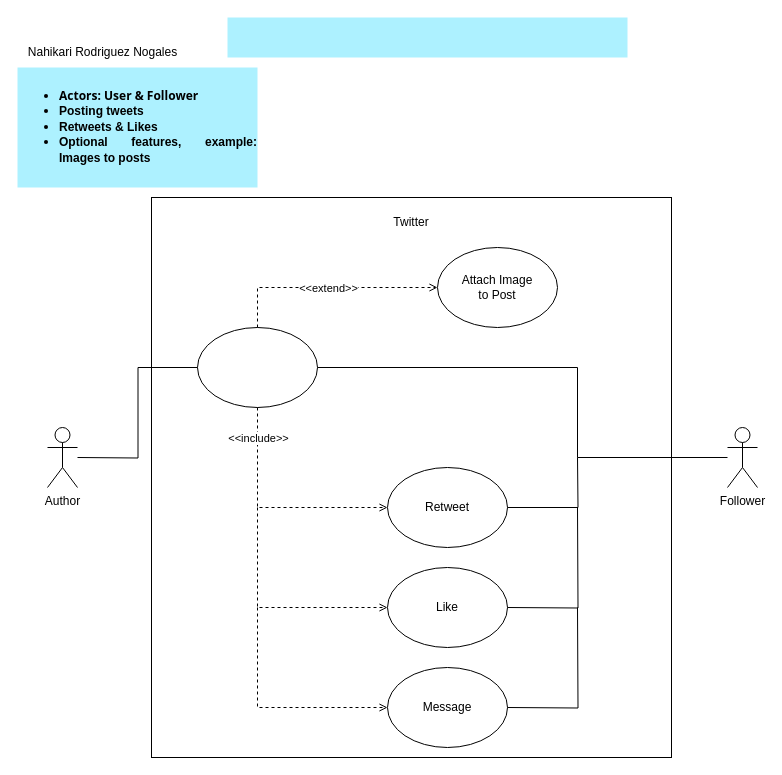
This 782x775 diagram has some shape labels left out. The shapes that lost their labels are listed below. From the top down, each one's centre as x and y in pixels, then its label:
At point 427,37: "TWITTER USE CASE DIAGRAM".
At point 257,367: "Write a tweet".
